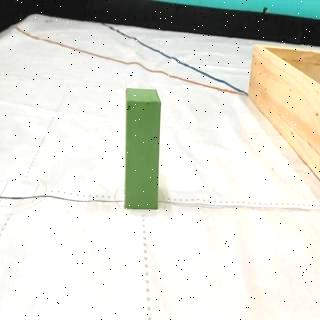greenbox: (124, 84, 162, 208)
